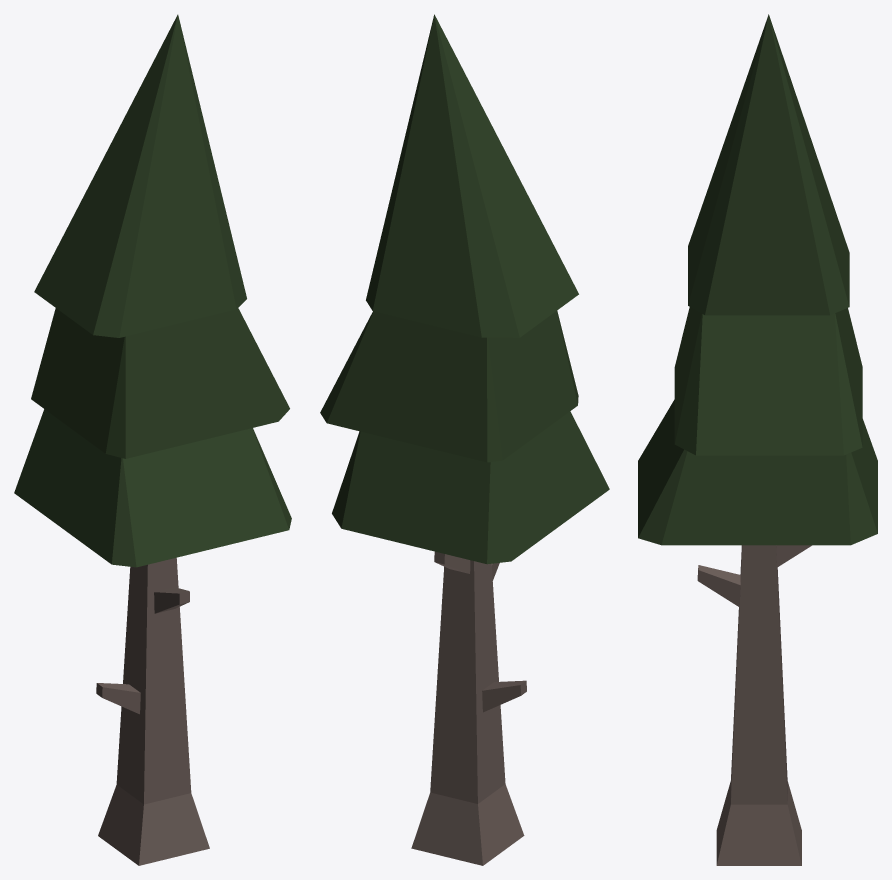
Rendered from pine_a.glb.
3 views of the same model, side by side, from view 1: azimuth 30°, elevation 25°; view 2: azimuth 150°, elevation 25°; view 3: azimuth 270°, elevation 25° (orthographic). The views are drawn at different scales.
Visible parts, largest first — view 1: pine_a; view 2: pine_a; view 3: pine_a.
Part boxes in pixels (bbox=[...]): pine_a: bbox=[14, 14, 291, 865]; pine_a: bbox=[320, 14, 609, 865]; pine_a: bbox=[638, 14, 877, 865].
Size of the model in its own units: 1.78 by 7.04 by 1.8.
